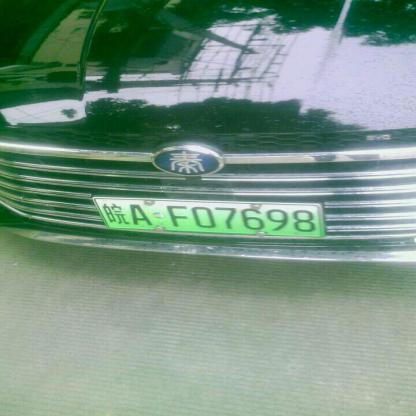lp: (92, 196, 321, 236)
